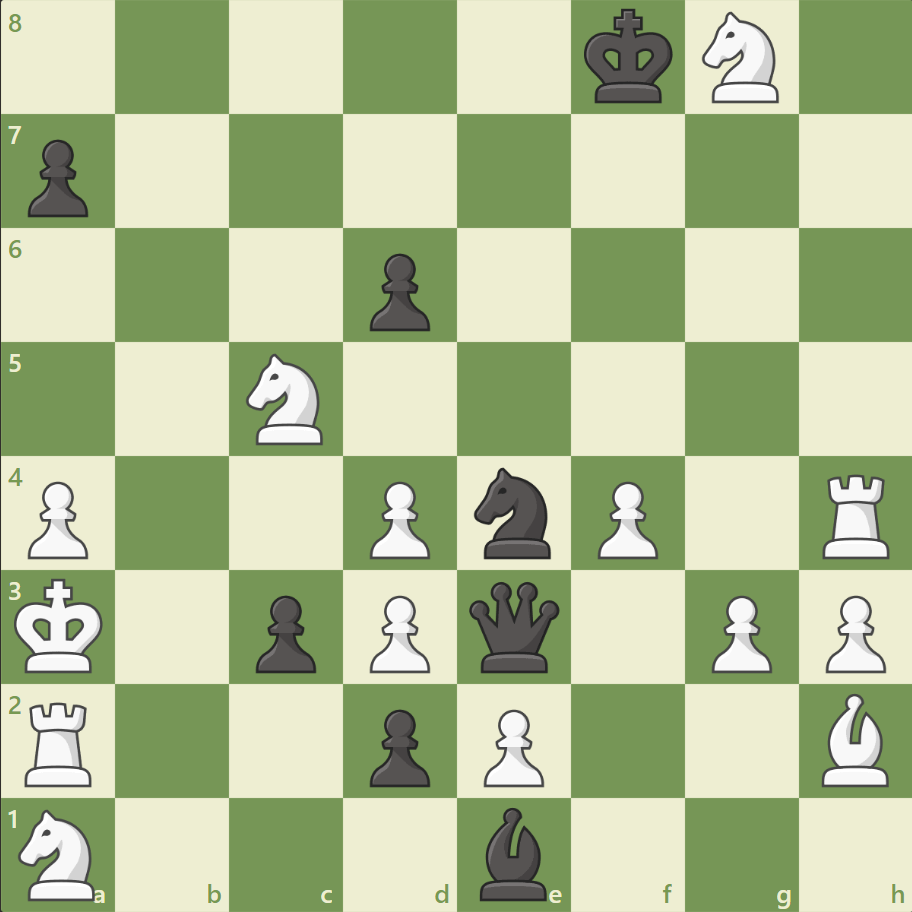B: (812, 687, 896, 790)
K: (11, 571, 111, 679)
N: (692, 7, 789, 110), (238, 348, 335, 450), (11, 802, 108, 904)
P: (20, 473, 95, 564), (701, 586, 776, 677), (474, 700, 549, 791), (361, 473, 435, 564), (588, 473, 662, 564), (361, 586, 435, 677), (815, 586, 889, 677)
R: (814, 466, 897, 563), (19, 693, 102, 790)
b: (471, 801, 555, 904)
k: (579, 4, 679, 112)
n: (465, 461, 562, 564)
p: (20, 132, 95, 223), (247, 586, 322, 677), (361, 246, 435, 337), (361, 700, 435, 791)
q: (464, 576, 563, 676)
